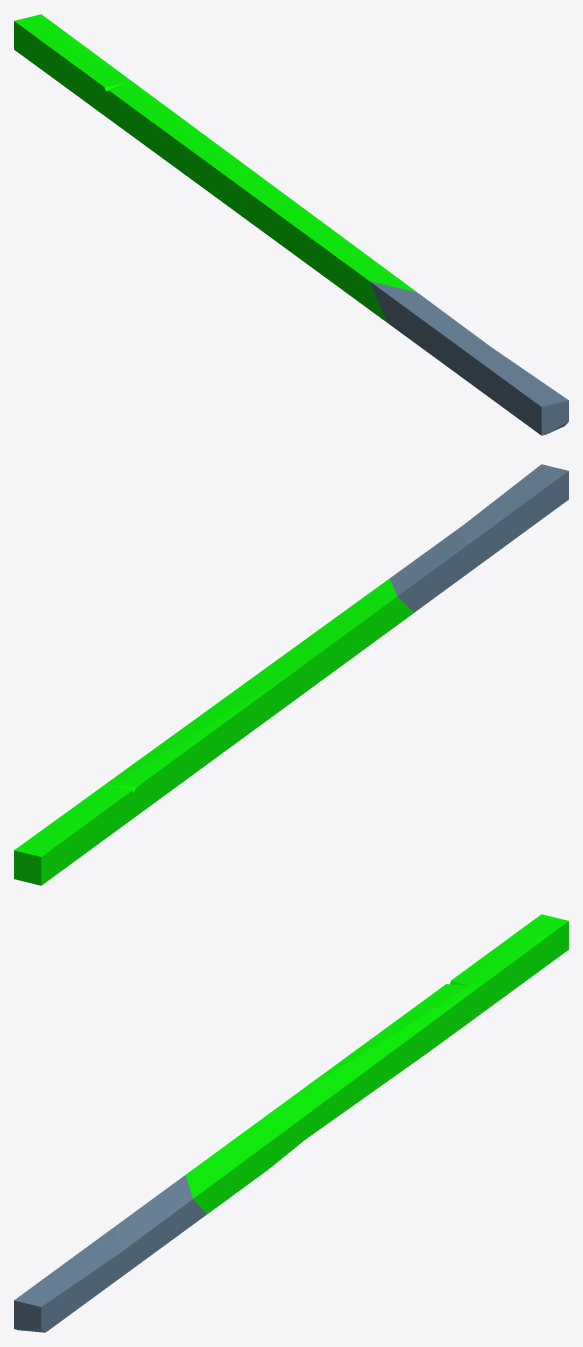
Rendered from SM_Bar_Metal_Hot.fbx.
3 views of the same model, one above another, from view 1: azimuth 30°, elevation 25°; view 2: azimuth 150°, elevation 25°; view 3: azimuth 330°, elevation 25° (orthographic).
Parts seen in each view (by area): view 1: bar-metal-hot; view 2: bar-metal-hot; view 3: bar-metal-hot.
Boxes of the visible parts, bbox=[...] form: bar-metal-hot: bbox=[14, 14, 568, 435]; bar-metal-hot: bbox=[14, 464, 568, 885]; bar-metal-hot: bbox=[14, 914, 568, 1332].
Bounding box in the file's own units: 0.03 × 0.03 × 1.
